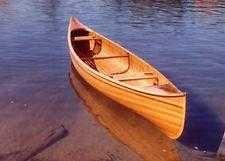kayak: (66, 16, 188, 142)
